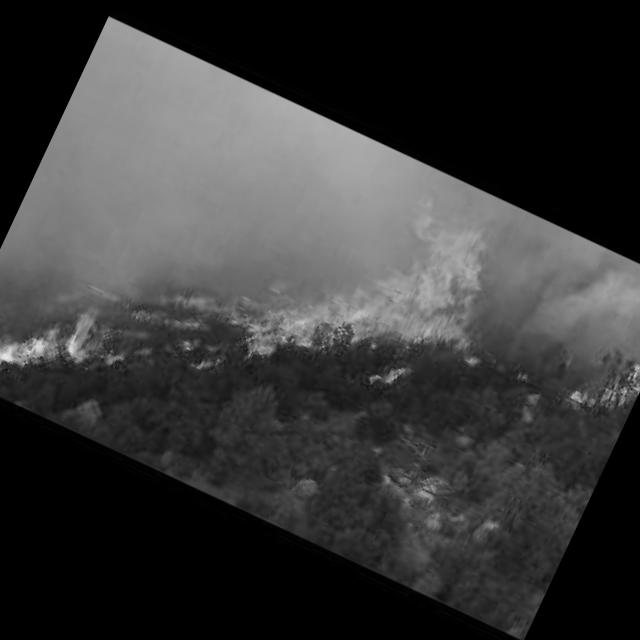fire: (234, 146, 526, 432), (0, 206, 229, 450), (569, 320, 640, 421)
